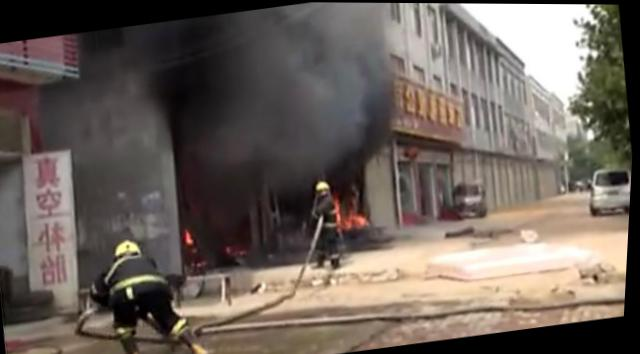fire: (344, 210, 373, 230), (334, 196, 349, 232), (185, 225, 197, 244)
